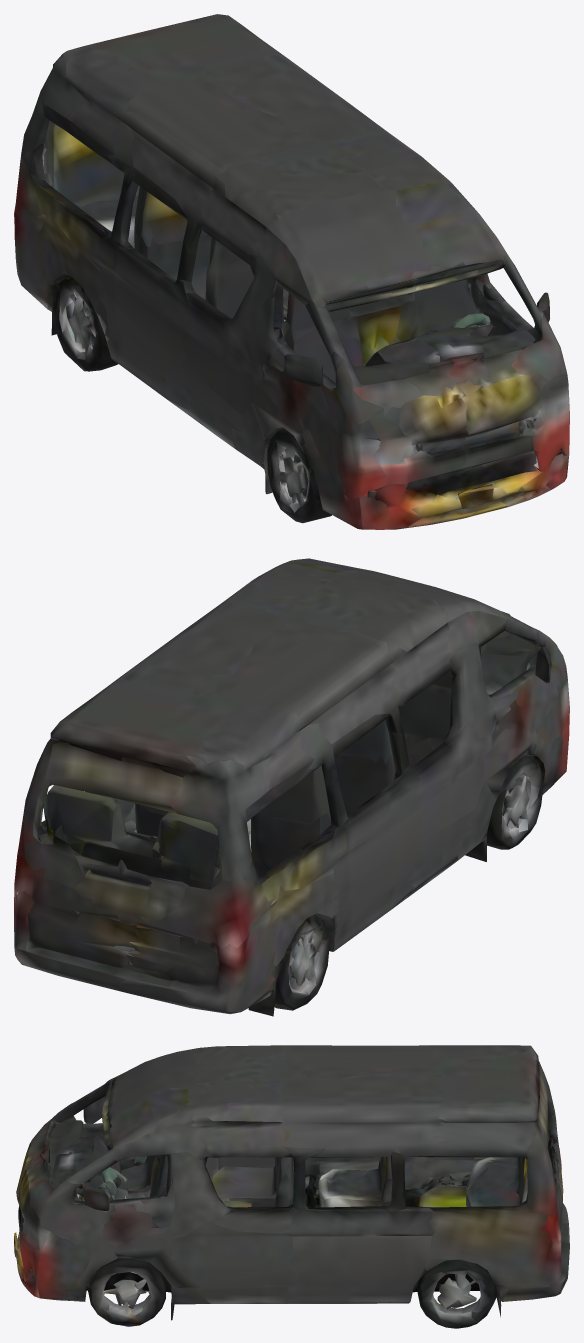
File: hiace_brimob_lod2.glb
3 views of the same model, one above another, from view 1: azimuth 30°, elevation 25°; view 2: azimuth 150°, elevation 25°; view 3: azimuth 270°, elevation 25° (orthographic). The views are drawn at different scales.
Parts seen in each view (by area): view 1: tripo_node_19560e7f-4798-4538-adad-87ddfbdfd7da; view 2: tripo_node_19560e7f-4798-4538-adad-87ddfbdfd7da; view 3: tripo_node_19560e7f-4798-4538-adad-87ddfbdfd7da.
Part boxes in pixels (x1=…): tripo_node_19560e7f-4798-4538-adad-87ddfbdfd7da: x1=14, y1=14, x2=569, y2=529; tripo_node_19560e7f-4798-4538-adad-87ddfbdfd7da: x1=14, y1=558, x2=569, y2=1016; tripo_node_19560e7f-4798-4538-adad-87ddfbdfd7da: x1=14, y1=1045, x2=569, y2=1328.
Size of the model in its own units: 0.422 by 0.4236 by 0.9999.
Materials: 1 (1 with a texture image).
